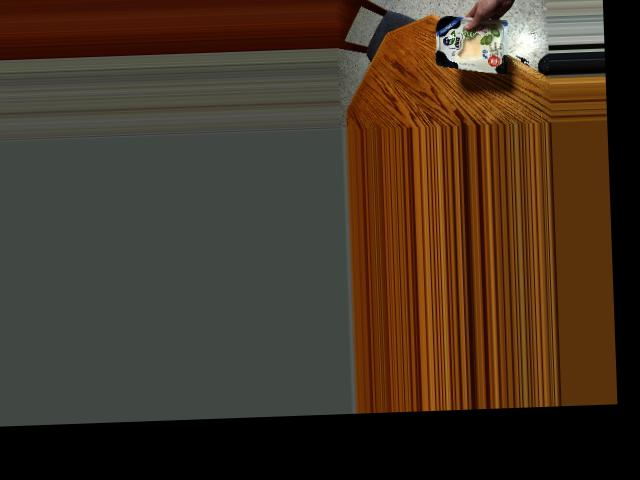cheese: (424, 10, 517, 76)
